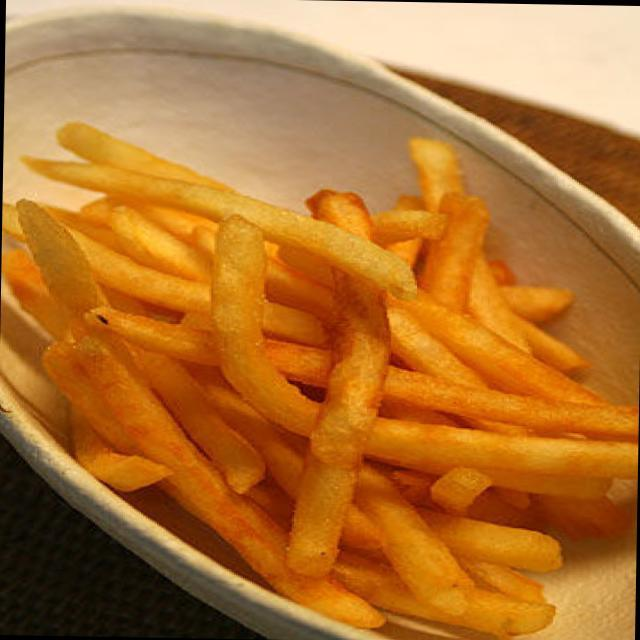French Fries: (26, 109, 614, 626)
